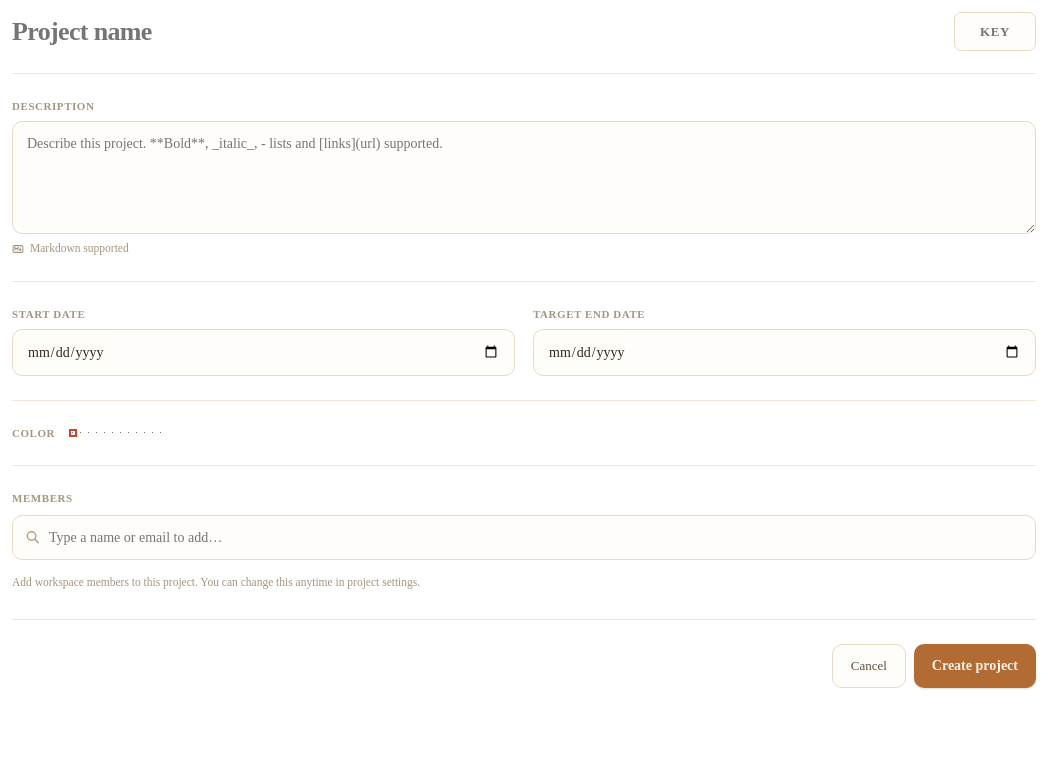
Scenario: CreateProjectForm › auto-generates key 'MC' on name blur for two-word name
The width and height of the screenshot is (1048, 780).
Type "Marketing Campaign" into the field labelled "Project name".
click(476, 32); type("Marketing Campaign")  # box [12,12,940,51]
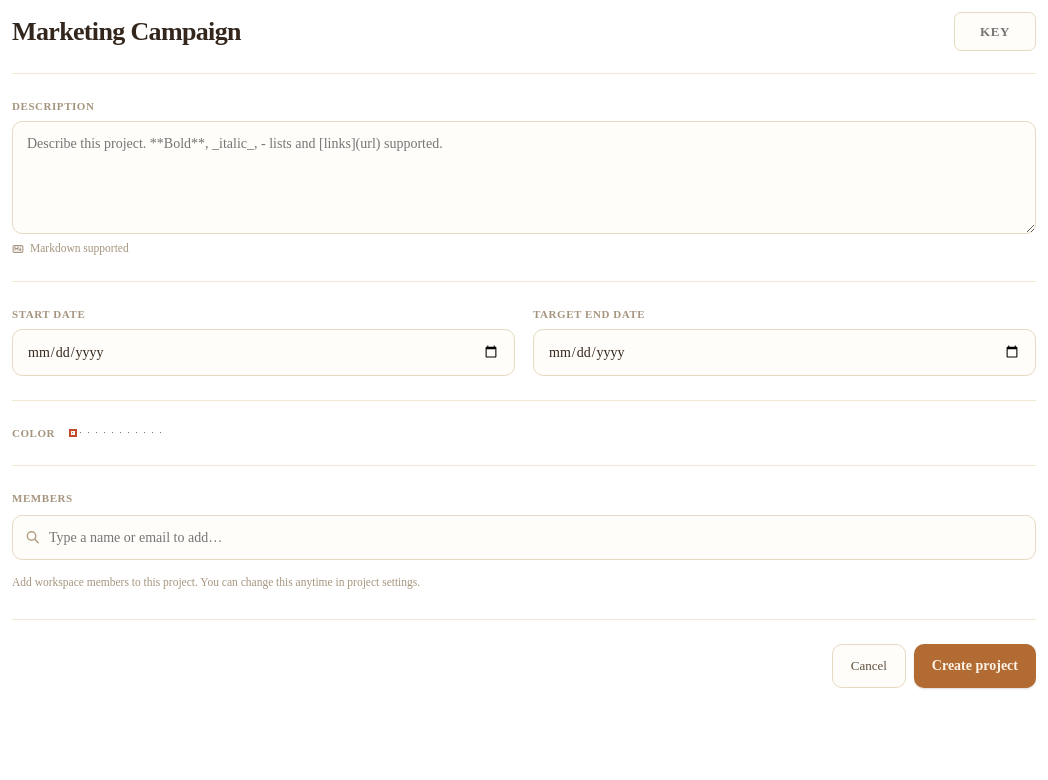
Leave the field named "Project name", box [12,12,940,51]
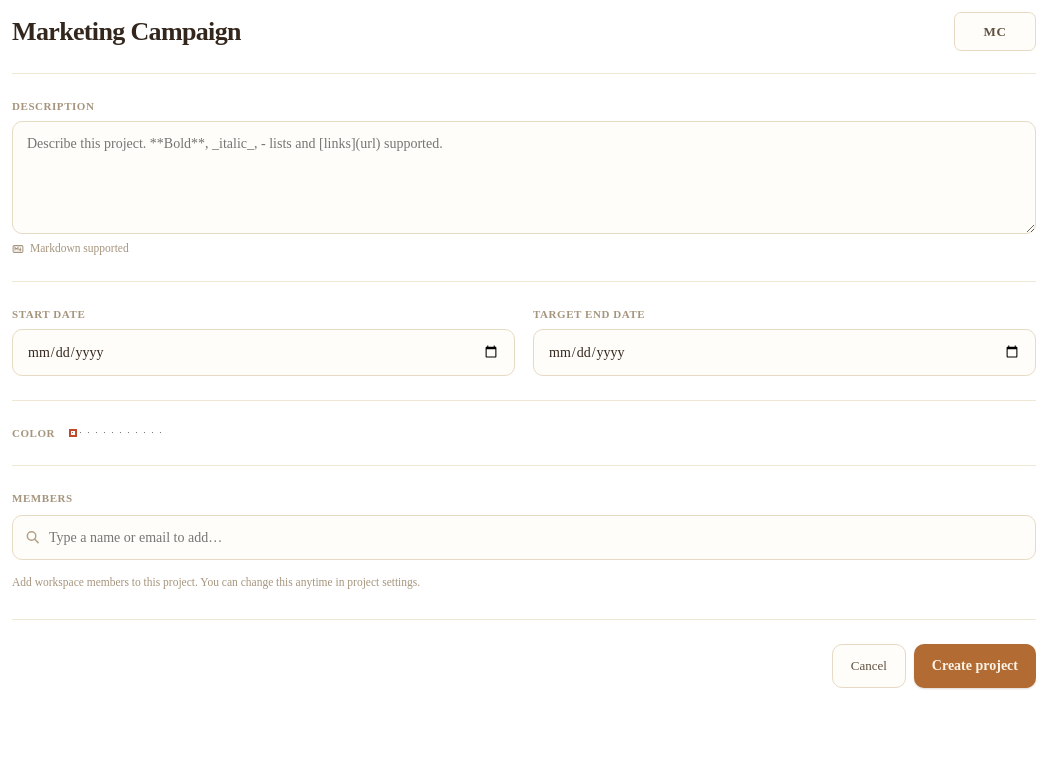
Now the field named "project key" holds "MC", box [954,12,1036,51]
